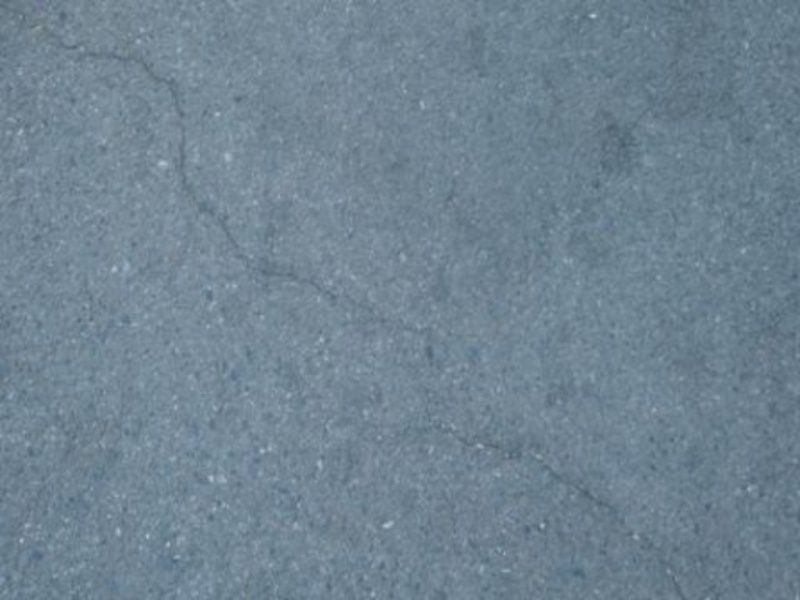crack: (29, 15, 402, 322), (420, 410, 689, 600)
